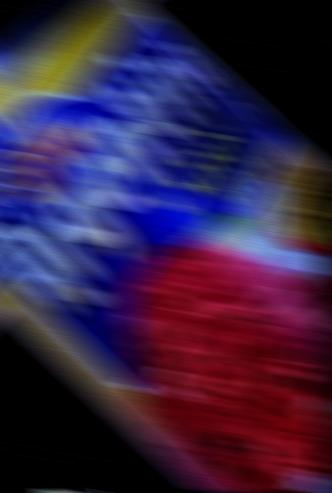argentina corned beef: (0, 0, 332, 493)
piattos cheese: (44, 491, 204, 493)
